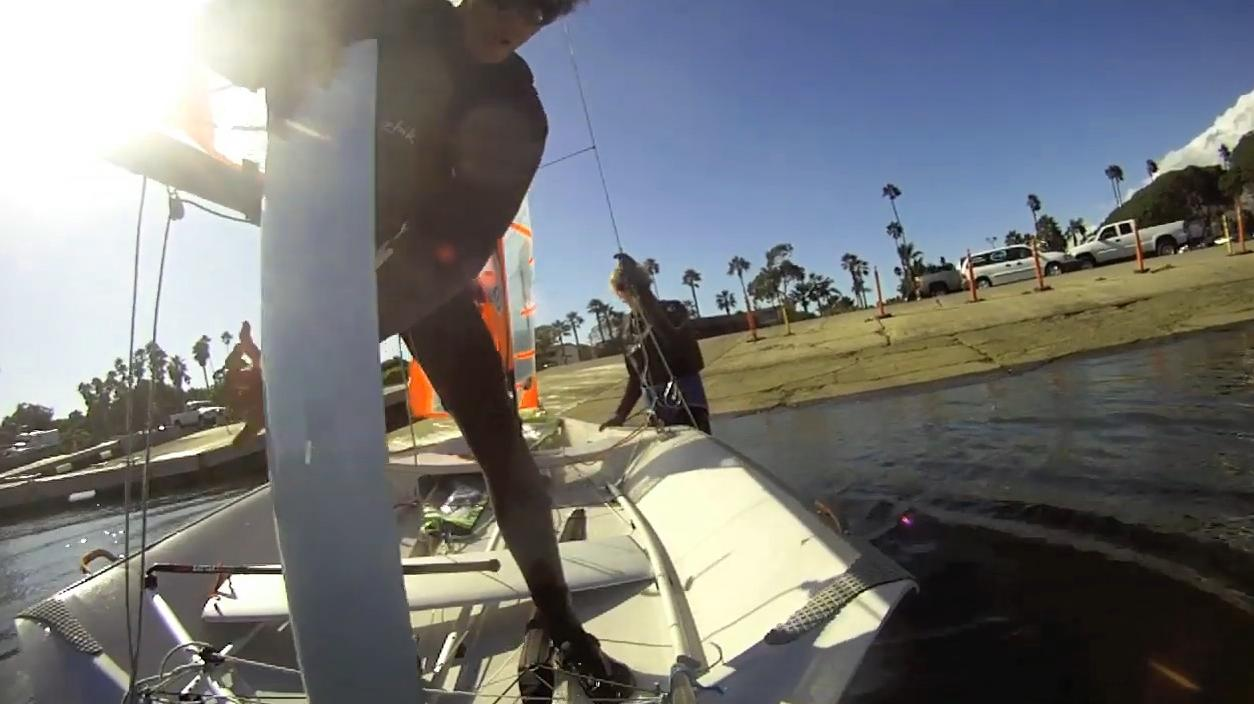boat: (14, 0, 910, 704)
land: (536, 132, 1254, 433), (0, 321, 266, 515)
person: (223, 0, 633, 688), (600, 254, 711, 435)
sea: (714, 322, 1254, 704), (0, 491, 243, 704)
sky: (520, 0, 1254, 318), (0, 0, 261, 416)
